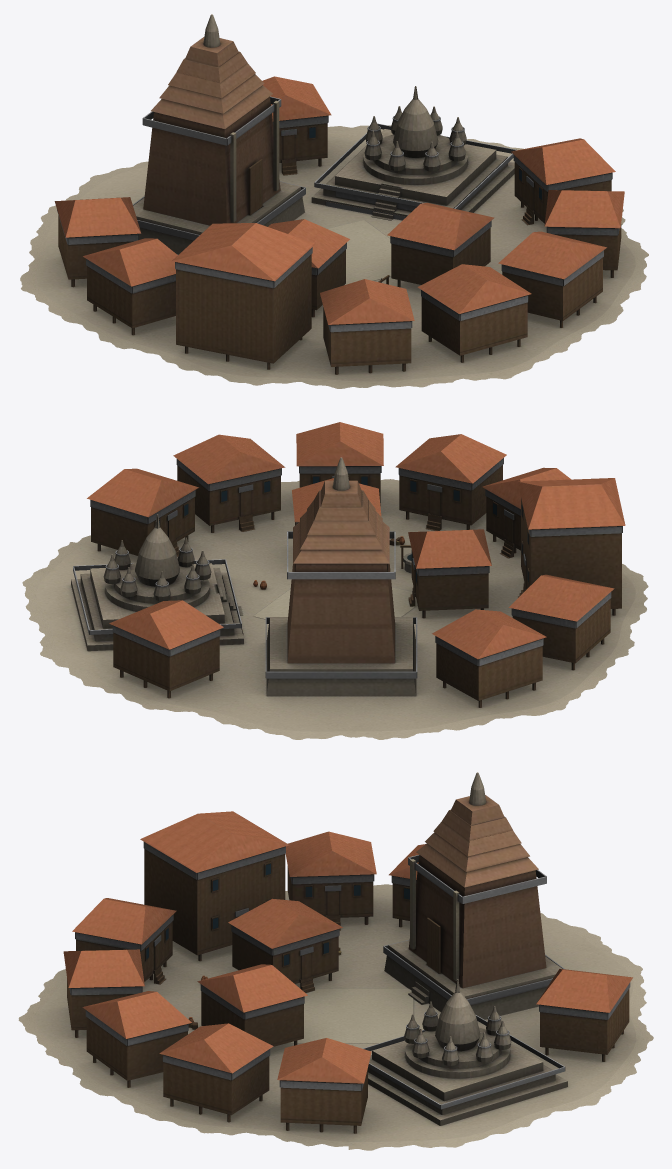
The model's file is classical-town-medium-a-monsoon.glb.
The picture shows the model from 3 angles, top to bottom: view 1: azimuth 30°, elevation 25°; view 2: azimuth 150°, elevation 25°; view 3: azimuth 270°, elevation 25°; orthographic projection.
Visible parts, largest first — view 1: LOD0; view 2: LOD0; view 3: LOD0.
Boxes of the visible parts, box(x1,y1,x2,y2) form: LOD0: box(20, 14, 648, 388); LOD0: box(22, 422, 648, 739); LOD0: box(18, 772, 653, 1150).
Size of what is drawn, in the model's own units: 5.98 by 2.2 by 5.98.
Materials: 3 (3 with a texture image).
